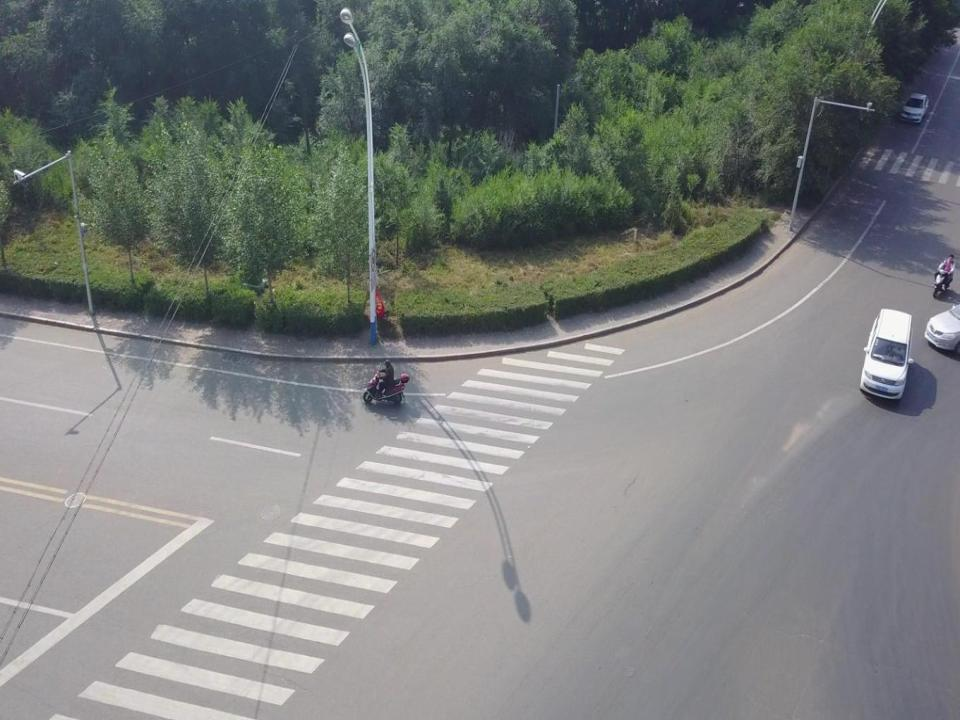car: (858, 308, 914, 403), (900, 92, 928, 125)
